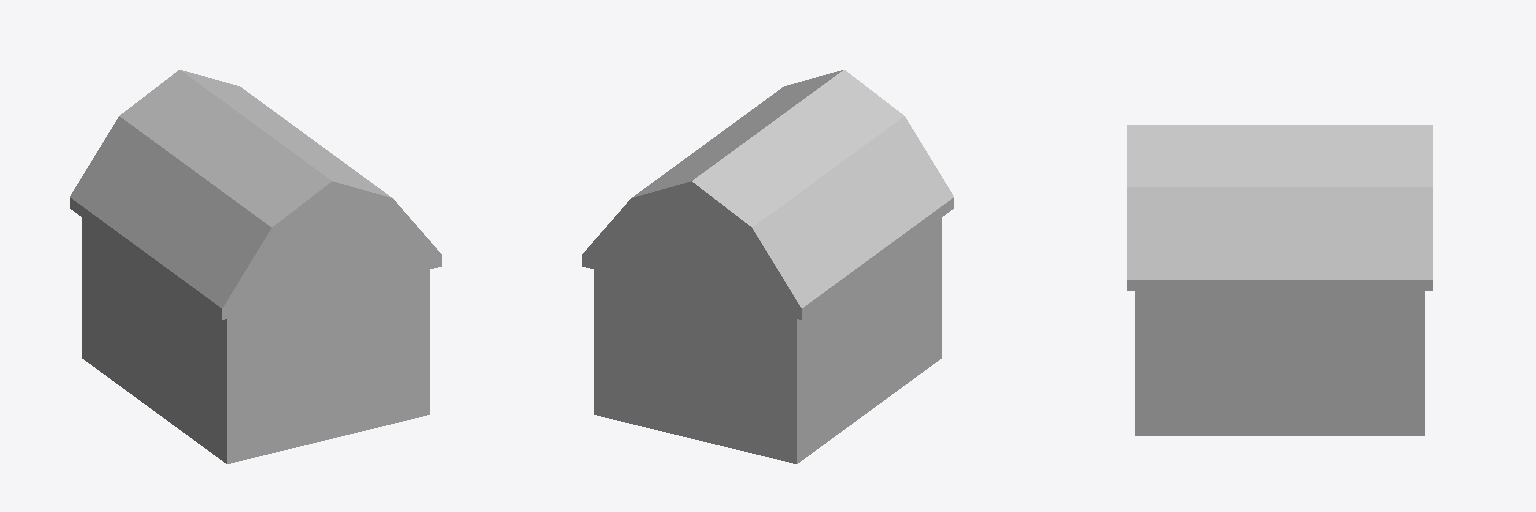
File: Barn_ex.obj
3 views of the same model, side by side, from view 1: azimuth 30°, elevation 25°; view 2: azimuth 150°, elevation 25°; view 3: azimuth 270°, elevation 25° (orthographic).
Visible parts, largest first — view 1: Barn; view 2: Barn; view 3: Barn.
Part boxes in pixels (bbox=[...]): Barn: bbox=[70, 70, 441, 463]; Barn: bbox=[582, 70, 953, 463]; Barn: bbox=[1127, 125, 1432, 435].
Bounding box in the file's own units: 209 × 237 × 251.